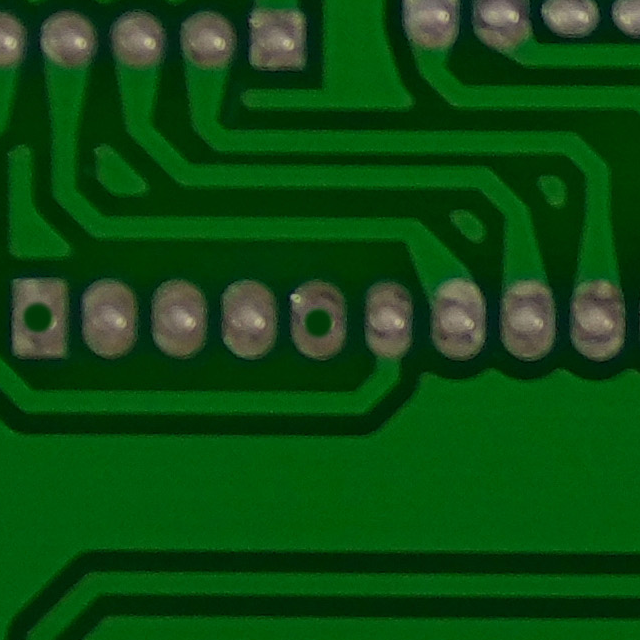missing_hole: (4, 271, 80, 359), (283, 276, 358, 364)
